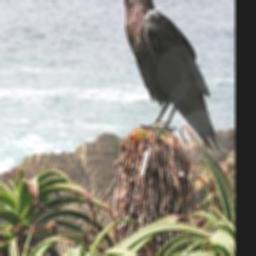Crow: (111, 0, 224, 154)
